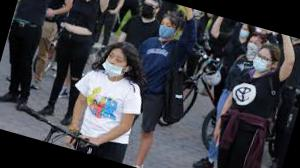mask_weared_incorrect: (101, 51, 128, 77), (143, 1, 158, 20)
with_mask: (250, 50, 273, 72), (157, 21, 176, 39), (245, 38, 262, 53), (237, 25, 253, 39), (81, 1, 98, 2)
